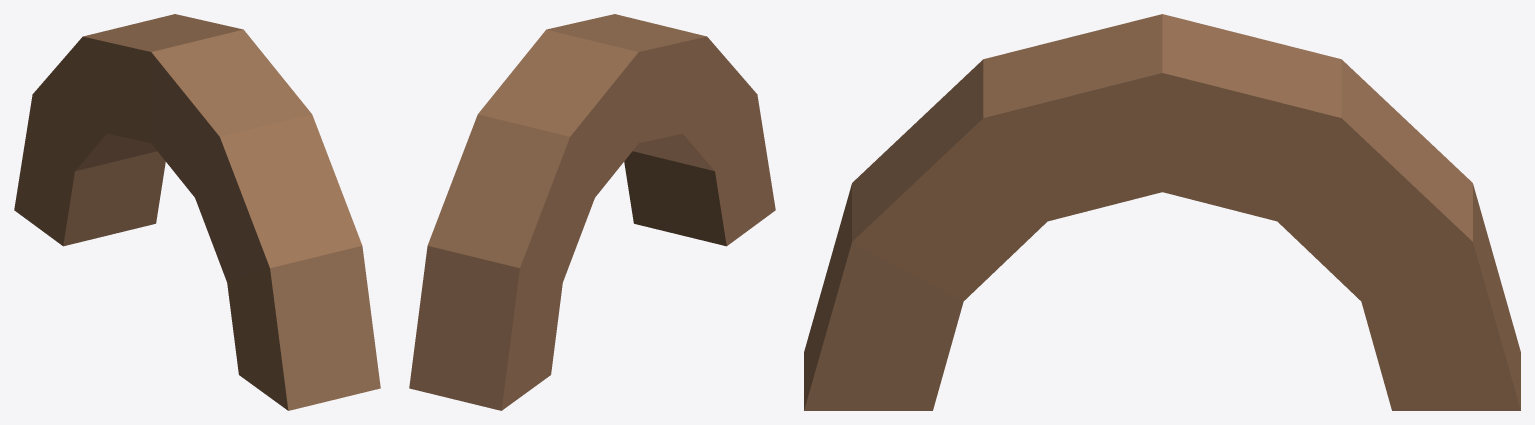
Rendered from Cage_01_Ring.fbx.
3 renders of one model, left to right at view 1: azimuth 30°, elevation 25°; view 2: azimuth 150°, elevation 25°; view 3: azimuth 270°, elevation 25°, orthographic. The views are drawn at different scales.
Visible parts, largest first — view 1: Cage_01_Ring; view 2: Cage_01_Ring; view 3: Cage_01_Ring.
Part boxes in pixels (left/top/right/bottom): Cage_01_Ring: left=14, top=14, right=380, bottom=410; Cage_01_Ring: left=409, top=14, right=775, bottom=410; Cage_01_Ring: left=804, top=14, right=1520, bottom=410.
Bounding box in the file's own units: 1.71 × 4.54 × 8.73.
